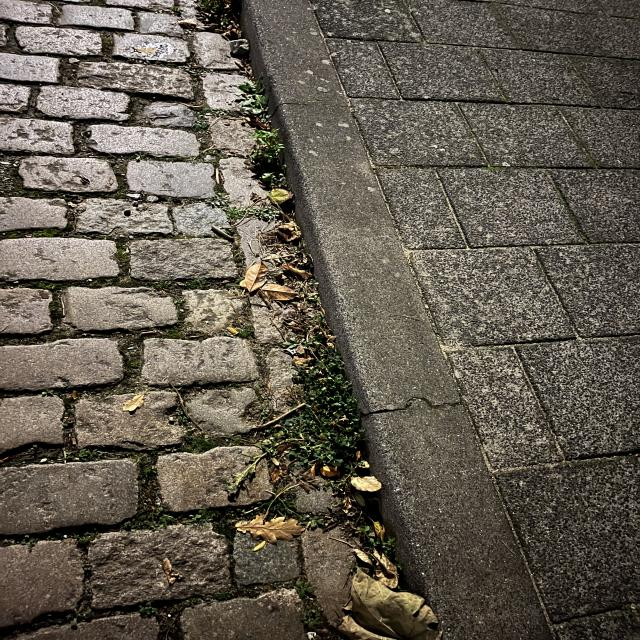leaves: (337, 545, 445, 639), (224, 466, 254, 497)
pavement: (243, 0, 639, 639), (0, 0, 255, 204), (0, 458, 142, 534), (125, 159, 216, 200)
weed: (255, 344, 365, 468)
weedling: (119, 509, 217, 532), (293, 577, 318, 601)
